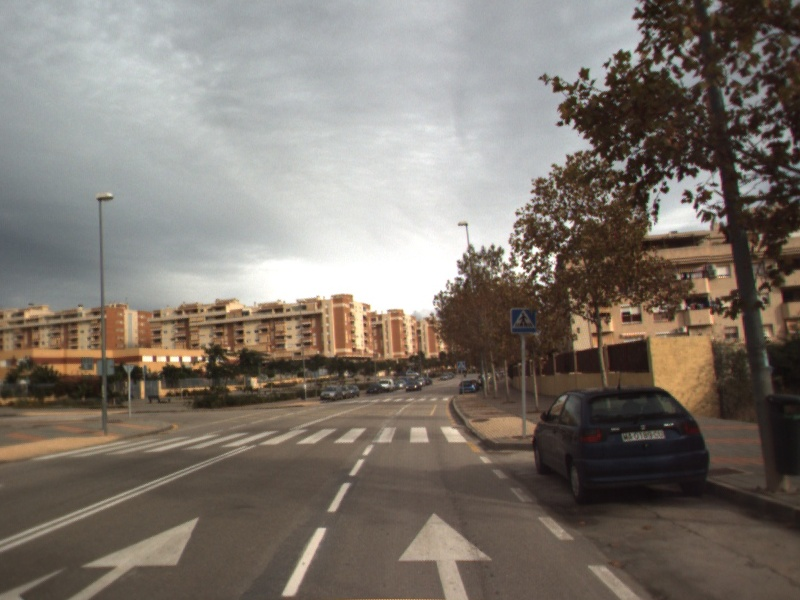STRAIGHT: (57, 514, 201, 600), (395, 509, 495, 600)
